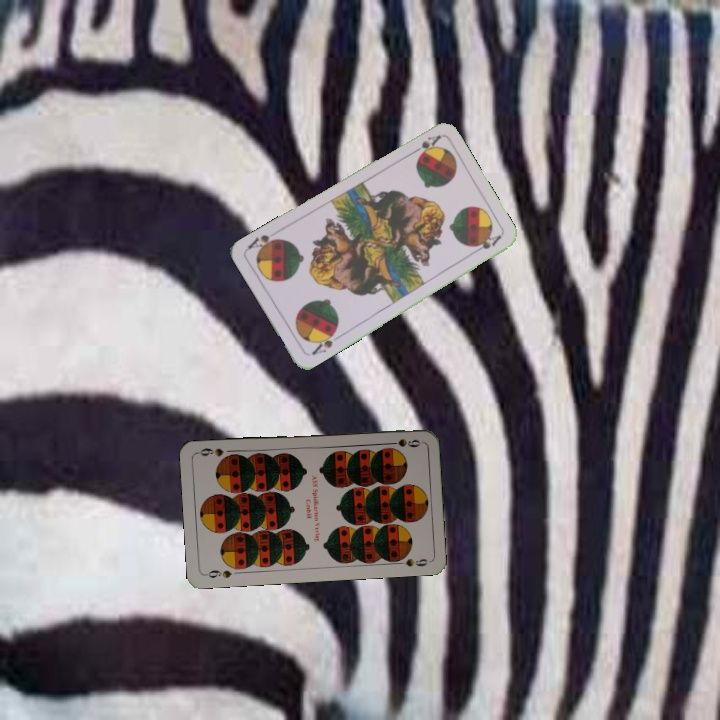S9: (382, 435, 423, 450), (201, 566, 234, 581)
SA: (308, 327, 343, 358), (406, 131, 443, 159)
